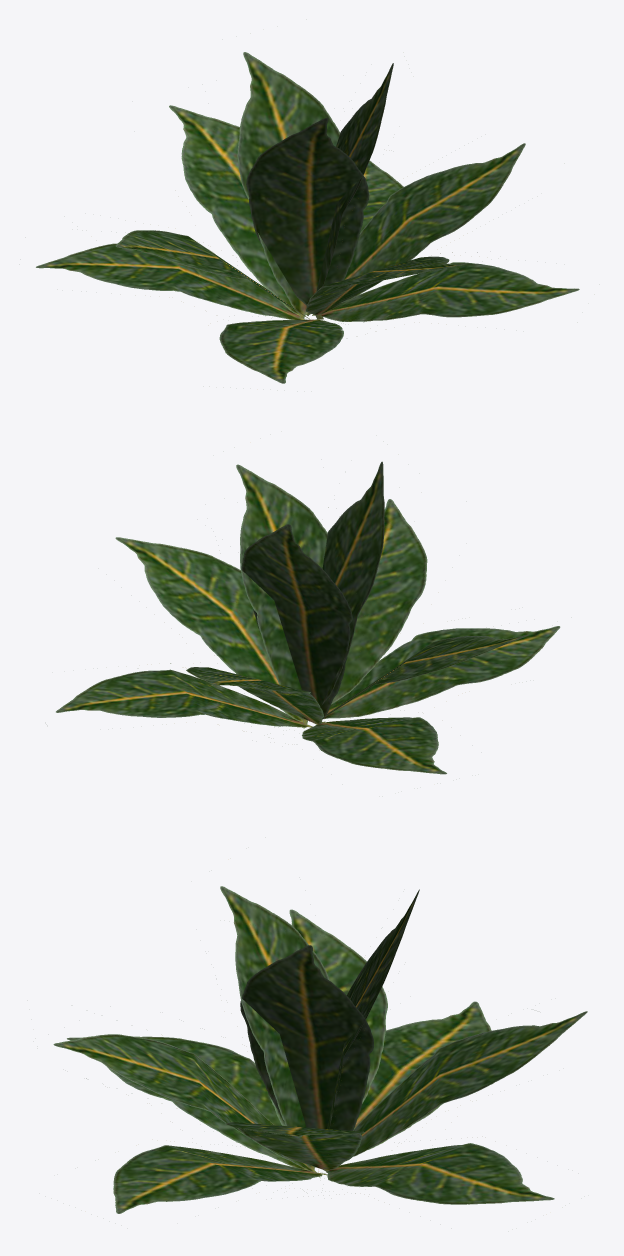
The model's file is plant11.FBX.
The picture shows the model from 3 angles, top to bottom: view 1: azimuth 30°, elevation 25°; view 2: azimuth 150°, elevation 25°; view 3: azimuth 270°, elevation 25°; orthographic projection. The views are drawn at different scales.
Visible parts, largest first — view 1: plant11; view 2: plant11; view 3: plant11.
Part boxes in pixels (x1,y1,x2,y2): plant11: [36, 52, 579, 383]; plant11: [56, 461, 560, 774]; plant11: [53, 886, 587, 1213].
Size of the model in its own units: 3.53 by 1.83 by 3.42.
